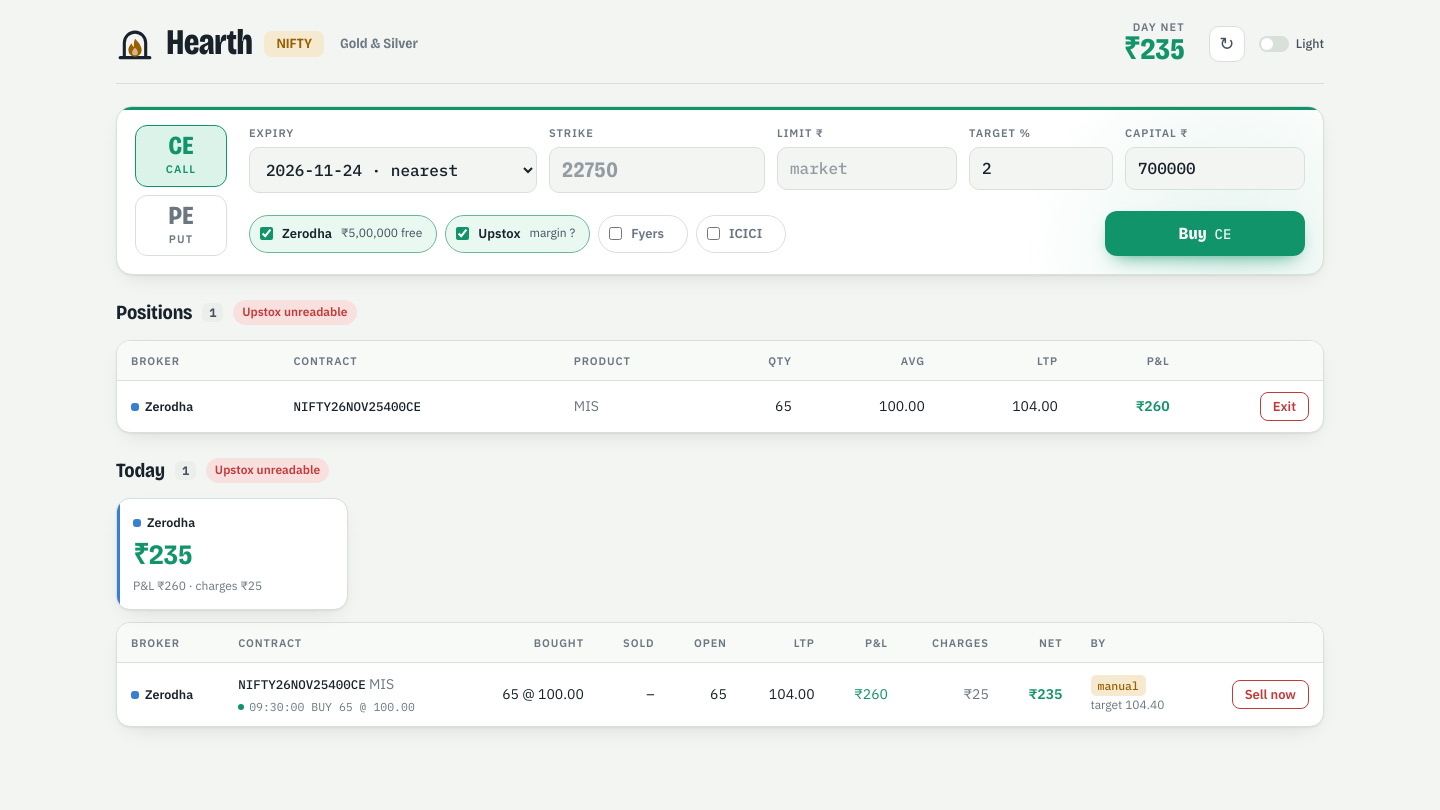
Test case: App › Sell now squares off the manual trade's position
Click the button "Sell now": (1270, 695) [1232,680,1309,709]
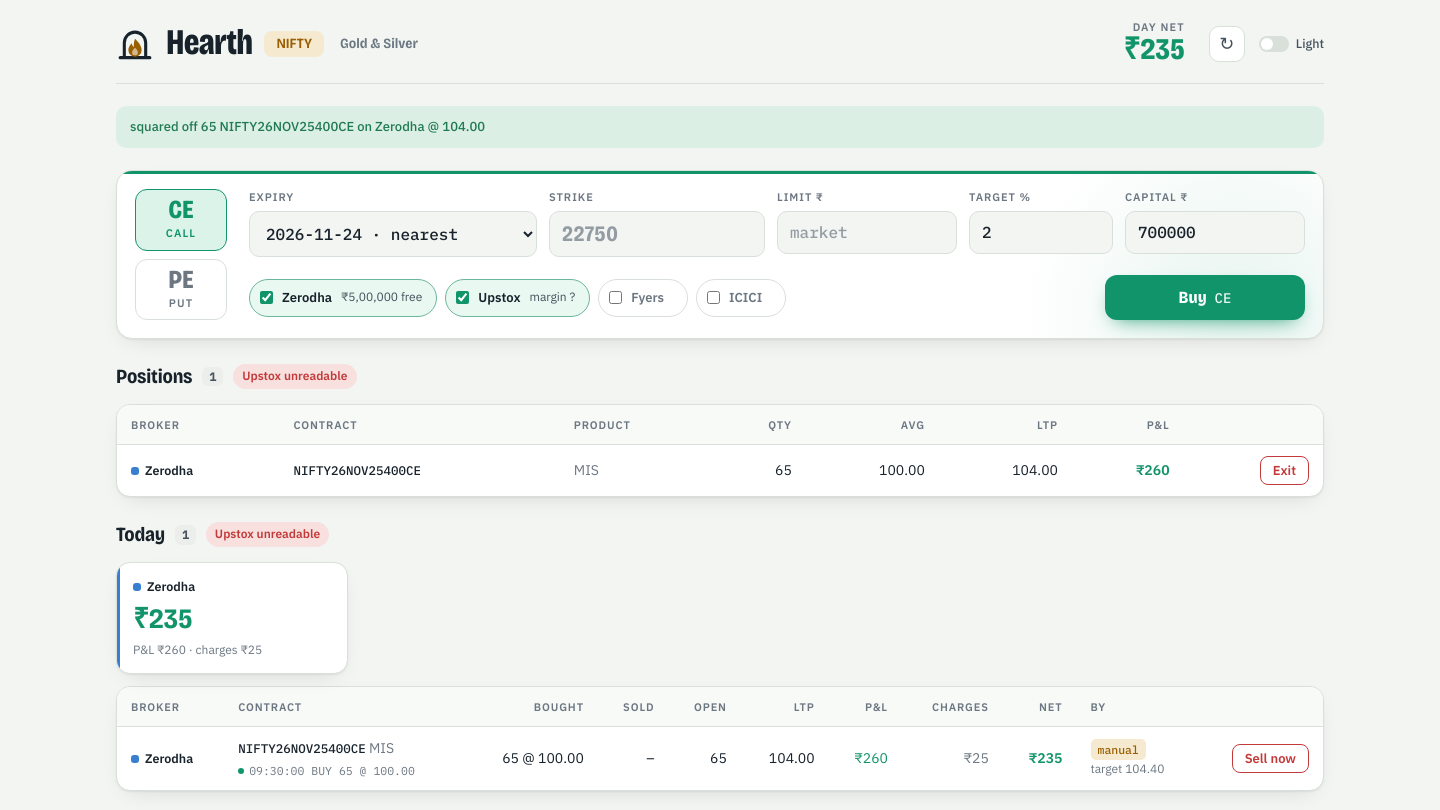
Expected: the text "squared off 65 NIFTY26NOV25400CE on Zerodha @ 104.00" is shown, [116,106,1324,148]
